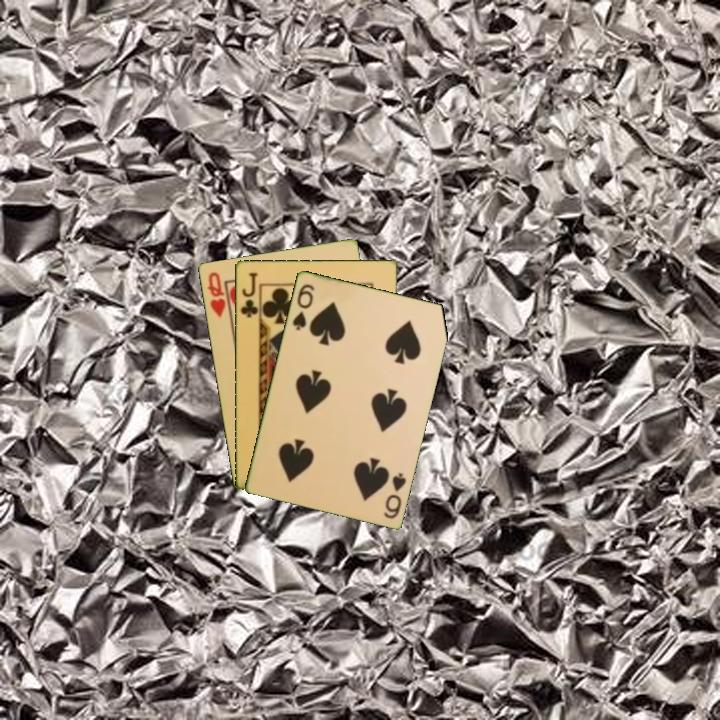6s: (380, 469, 409, 521), (289, 280, 317, 333)
Jc: (237, 268, 260, 320)
Qh: (204, 268, 228, 320)
